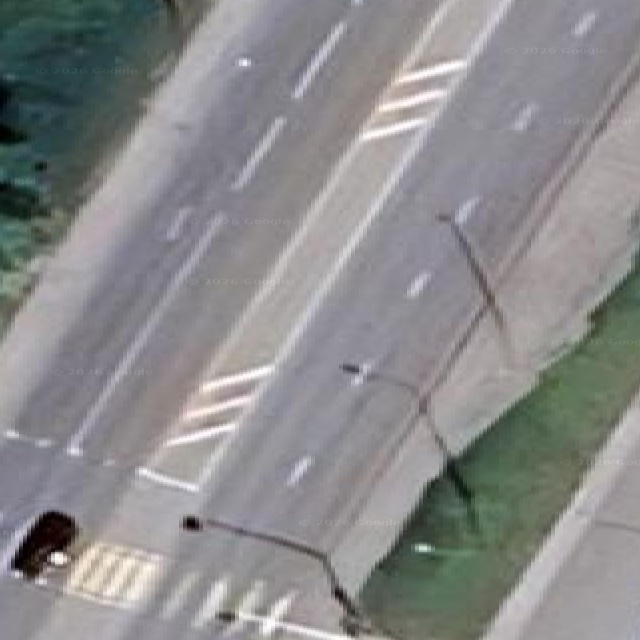car: (11, 512, 79, 577)
